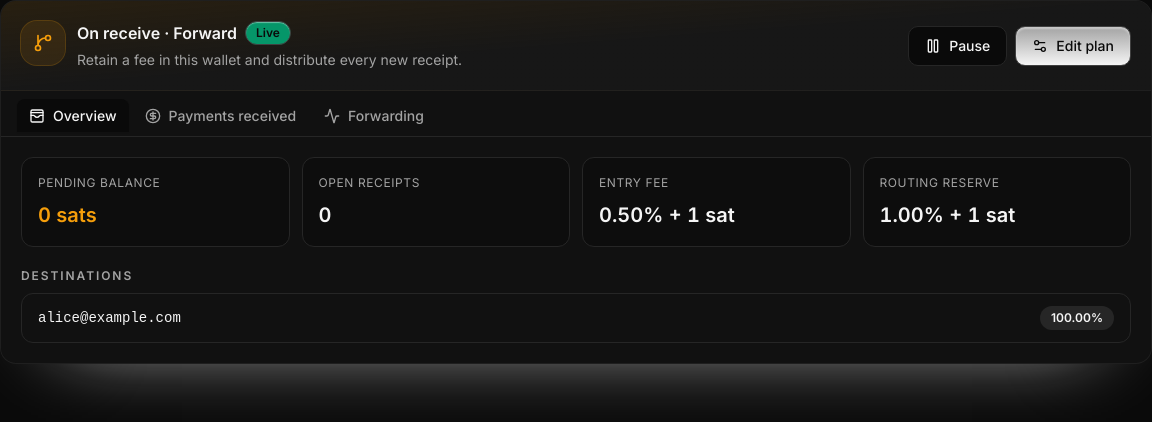
Test: RemoteWalletForwardingPanel › Payments received empty-state copy › prefers the error message over the walletActive wording
What coordinates should you click on to do the following:
click the tab "Payments received"
I would click on:
 (220, 116)
Its box is [132,99,308,132].
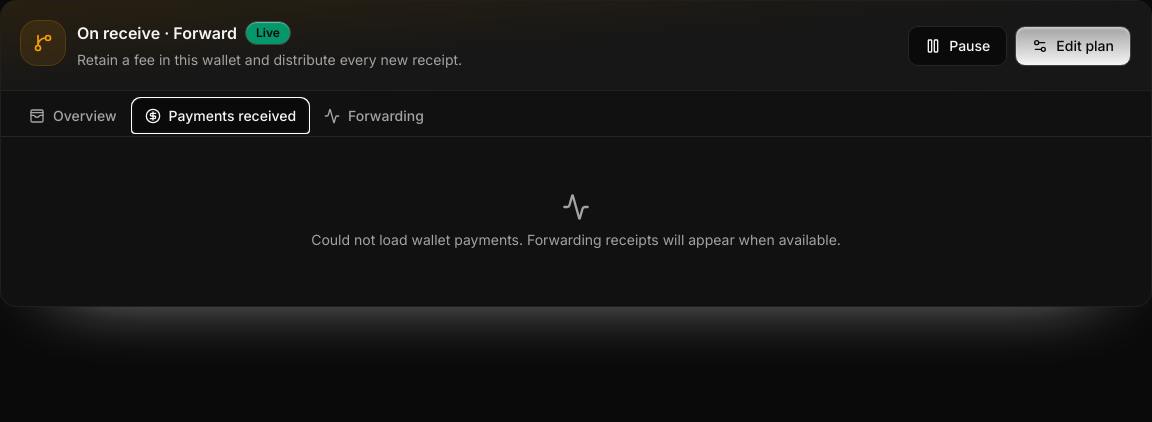
Expected: the text "Could not load wallet payments. Forwarding receipts will appear when available." is shown, [311,229,841,250]
